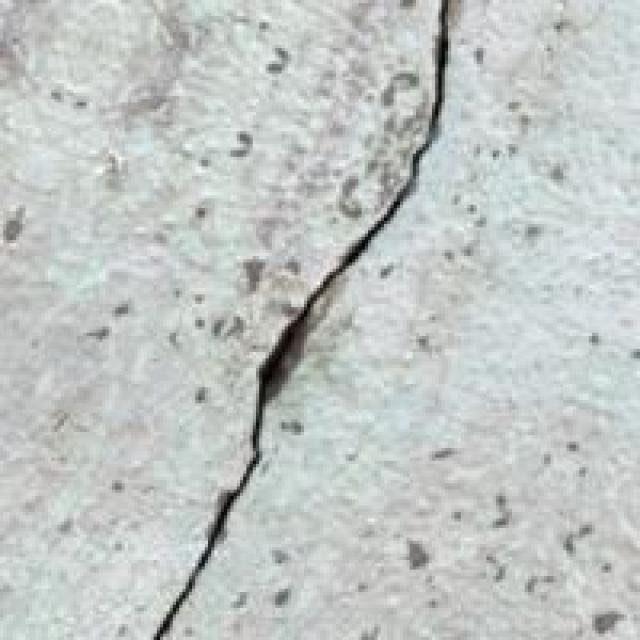crack: (84, 0, 502, 637)
